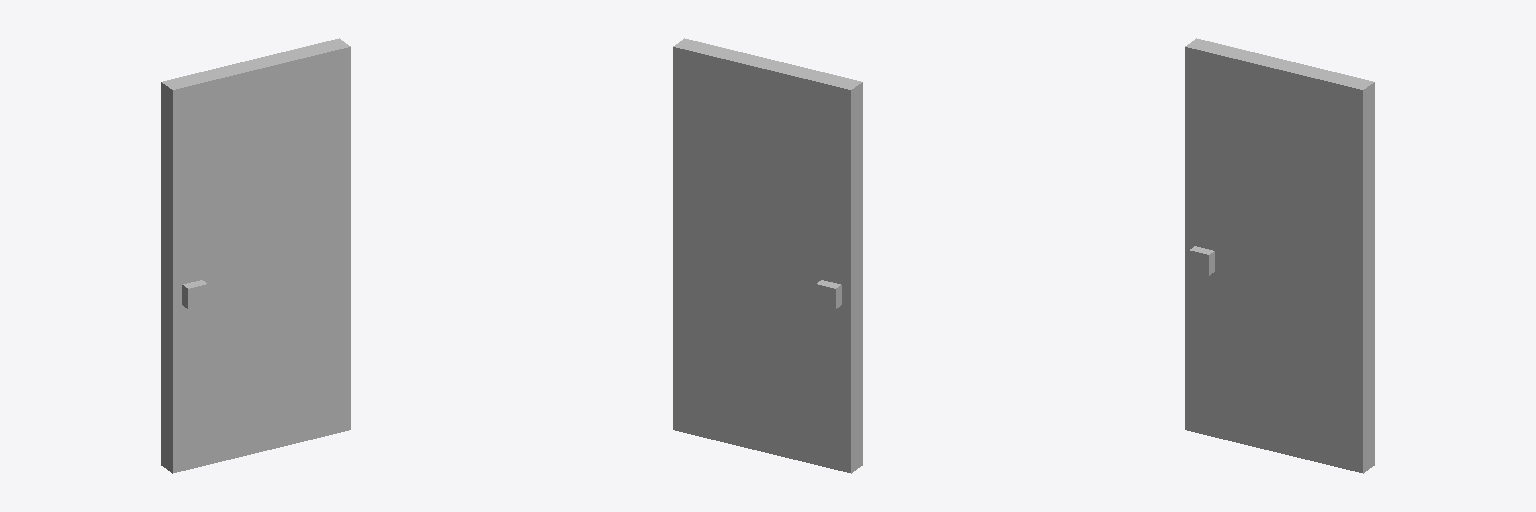
Rendered from door.obj.
3 renders of one model, left to right at view 1: azimuth 30°, elevation 25°; view 2: azimuth 150°, elevation 25°; view 3: azimuth 330°, elevation 25°, orthographic.
Visible parts, largest first — view 1: object 1; view 2: object 1; view 3: object 1.
Boxes of the visible parts, x1=… form: object 1: x1=161, y1=38, x2=350, y2=473; object 1: x1=673, y1=38, x2=862, y2=473; object 1: x1=1185, y1=38, x2=1374, y2=473.
Size of the model in its own units: 1.8 by 3.7 by 0.4.